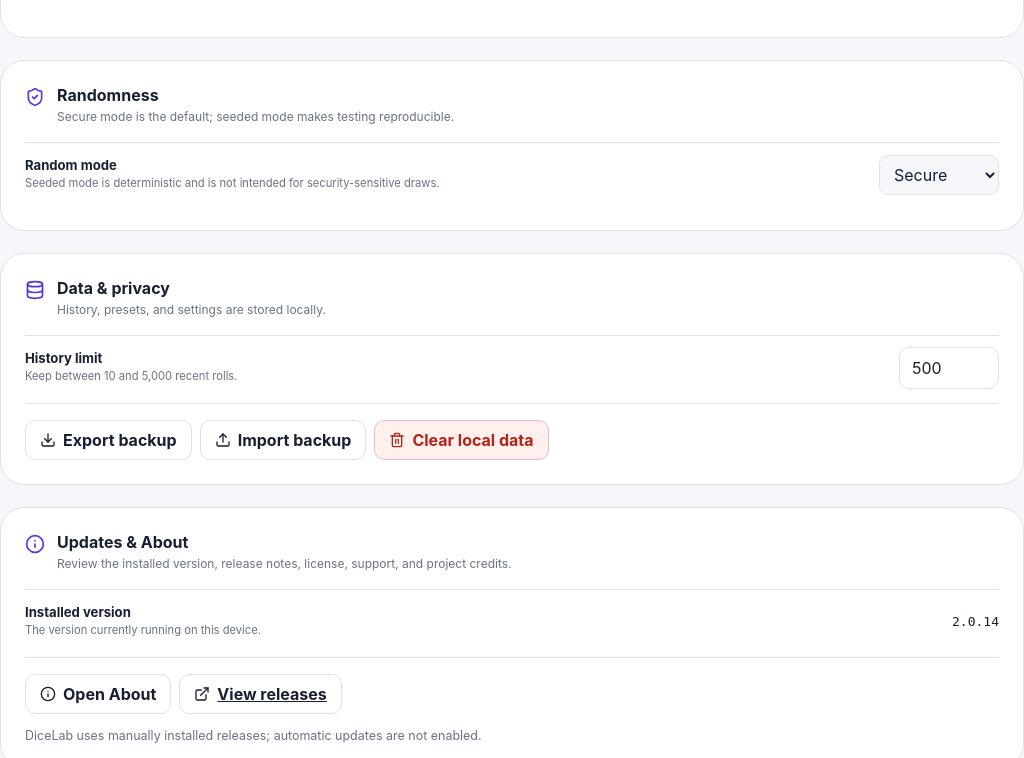
Test: SettingsPanel › reports a successful backup export
(page scrolled)
Step 1. Click the button "Export backup" → (108, 440), box [25, 420, 192, 460]
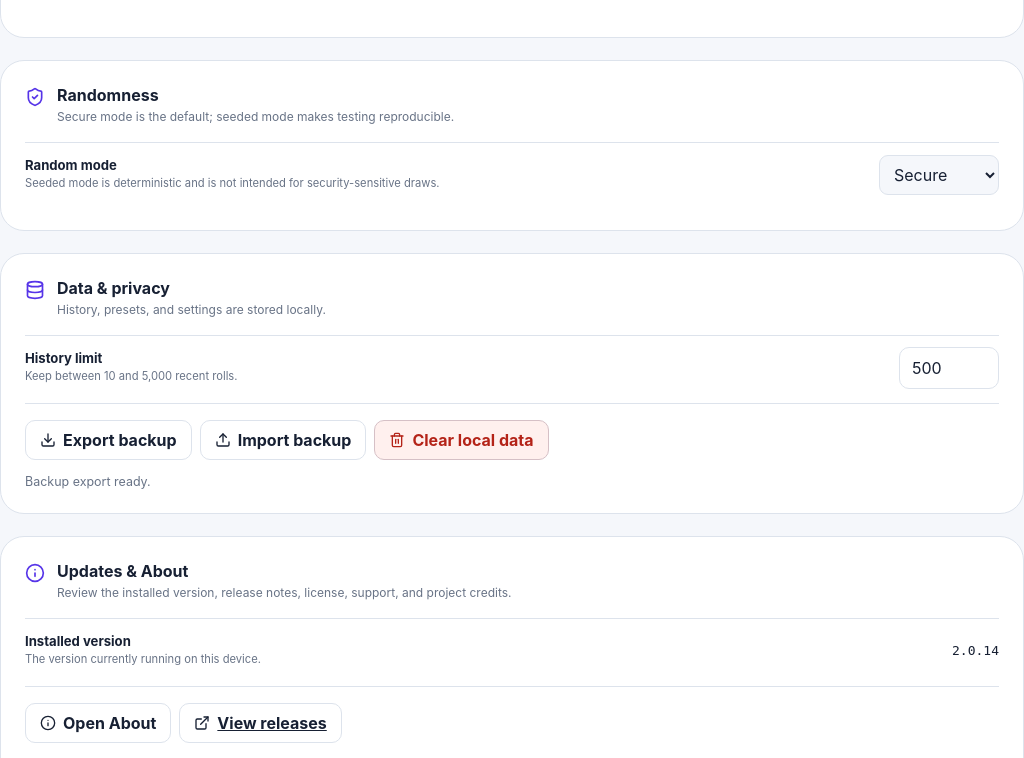
Expected: the message reads "Backup export ready.", [25, 474, 151, 489]
